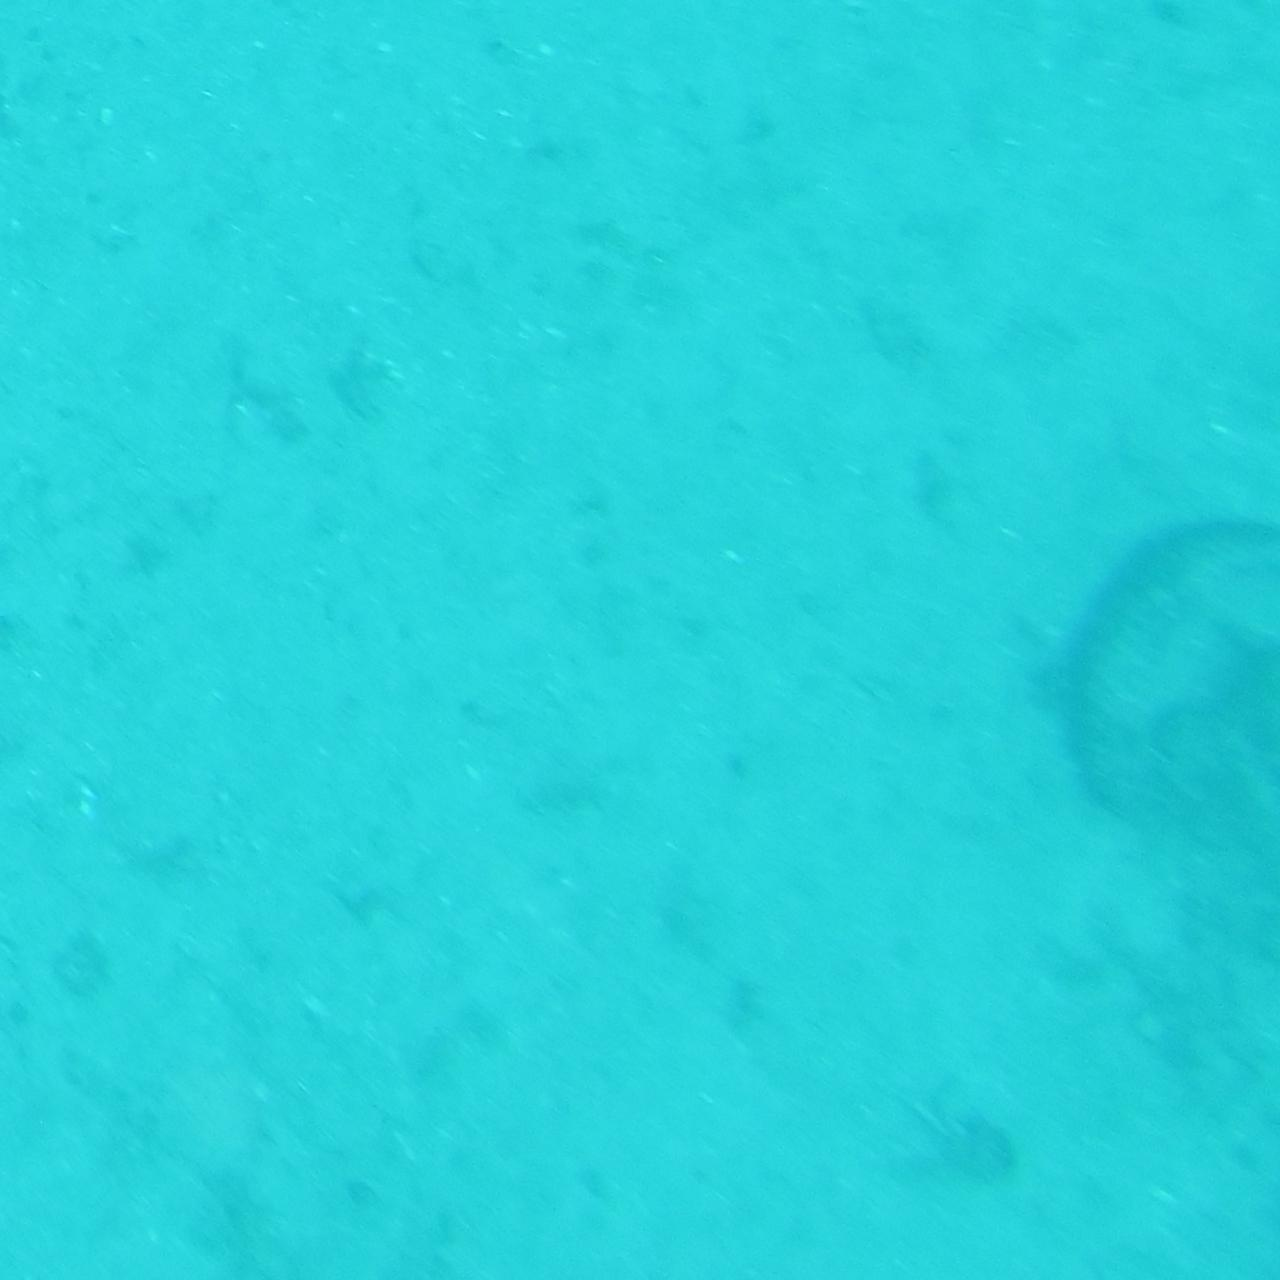Holothuria tubulosa: (1065, 508, 1276, 850)
